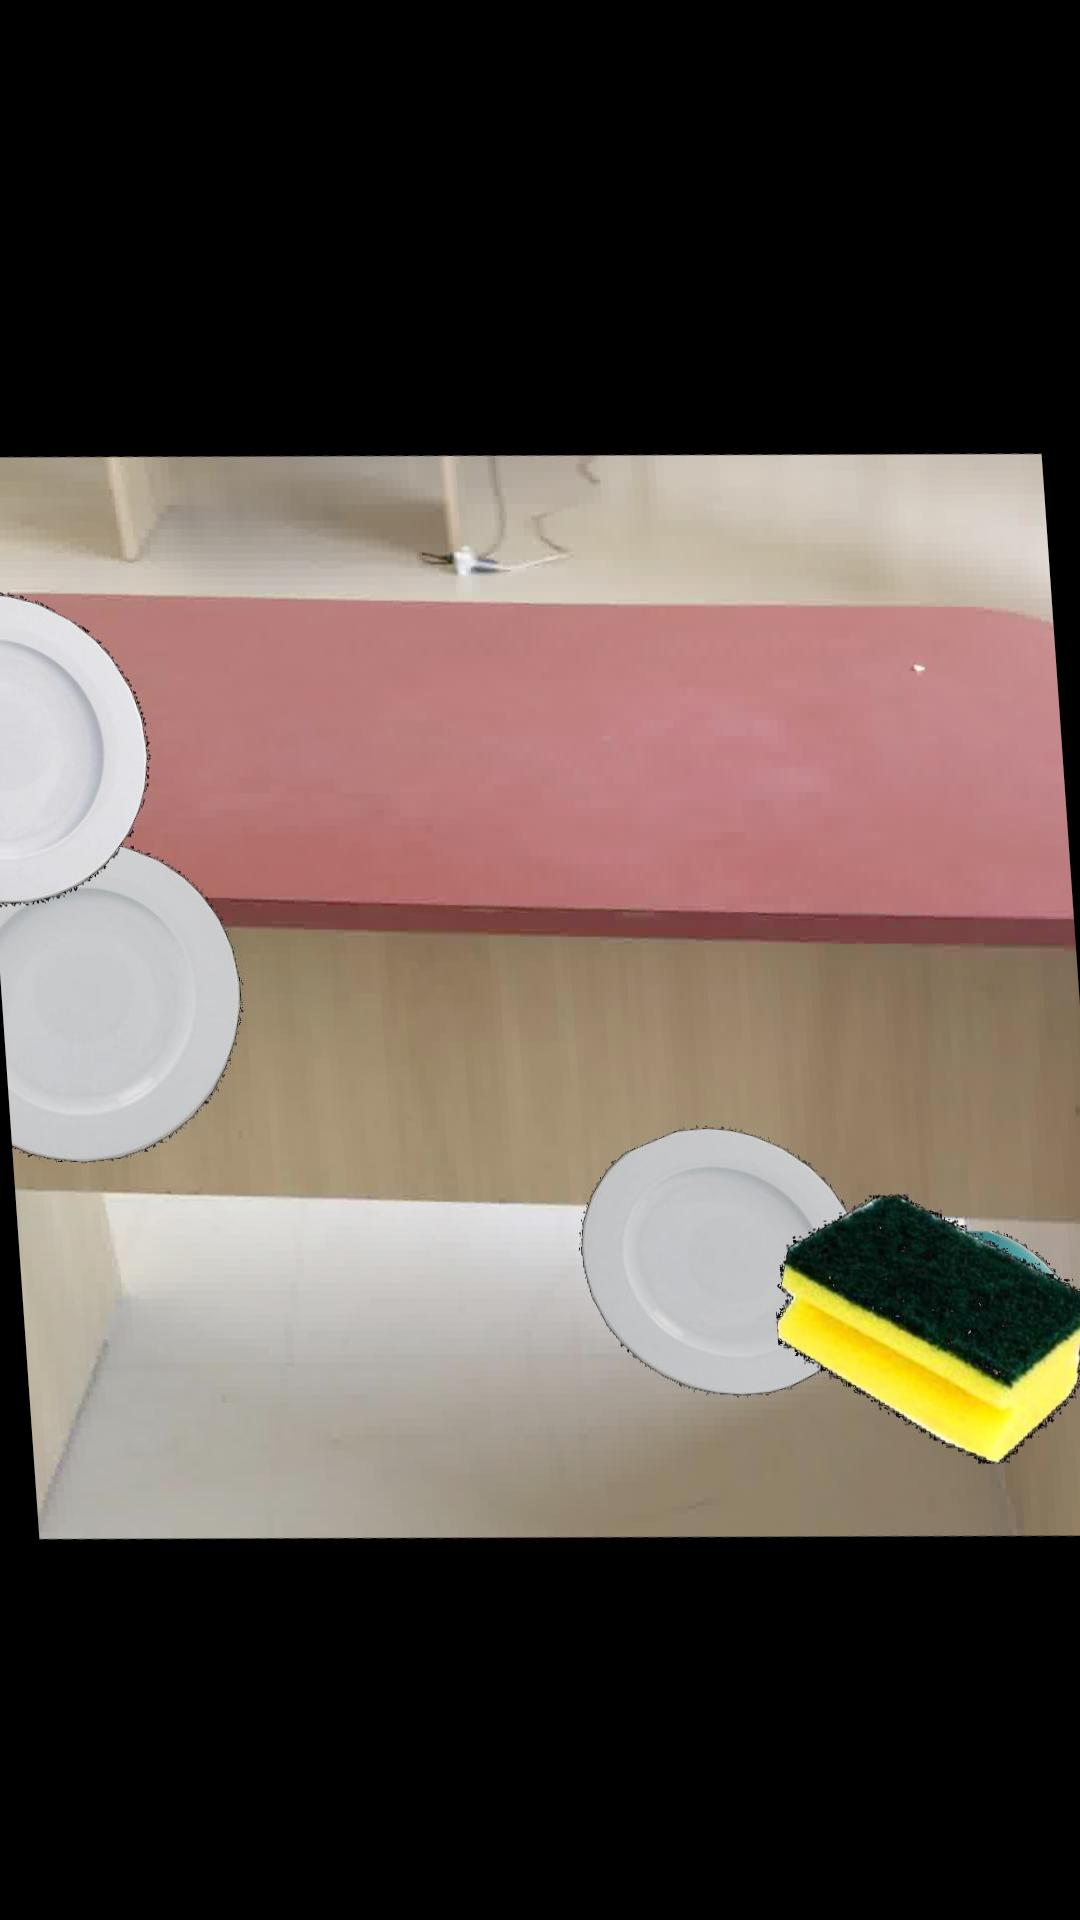bowl: (968, 1217, 1056, 1259)
plate: (0, 845, 243, 1162), (582, 1117, 849, 1385), (0, 592, 152, 907)
sponge: (777, 1182, 1080, 1451)
